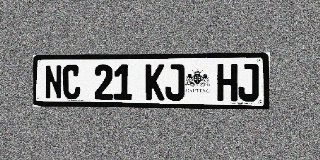1: (113, 64, 132, 100)
2: (94, 64, 113, 100)
C: (62, 65, 80, 100)
H: (217, 64, 237, 101)
J: (238, 63, 259, 101), (165, 64, 184, 101)
K: (145, 64, 164, 100)
N: (45, 65, 62, 99)
